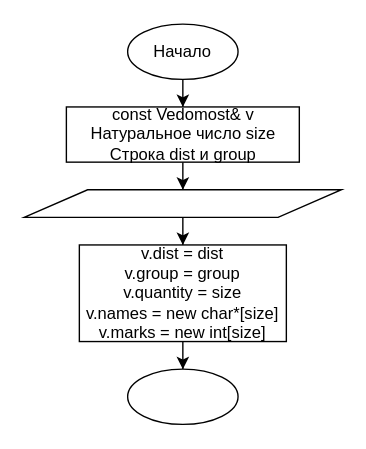
Some shapes in this 366 by 449 pixel diagram are drawn without their labels. The centre of each missing label's shape, as x and y in pixels:
Конец: [182,396]
Получение v, size, dist, group: [182,202]
